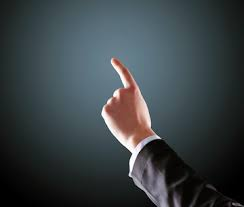pointing_gesture: (102, 57, 159, 140)
